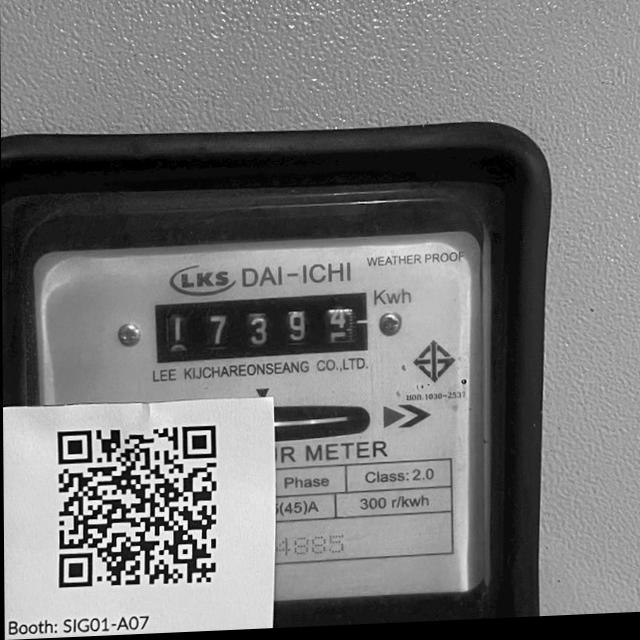qr_code: (53, 421, 222, 591)
